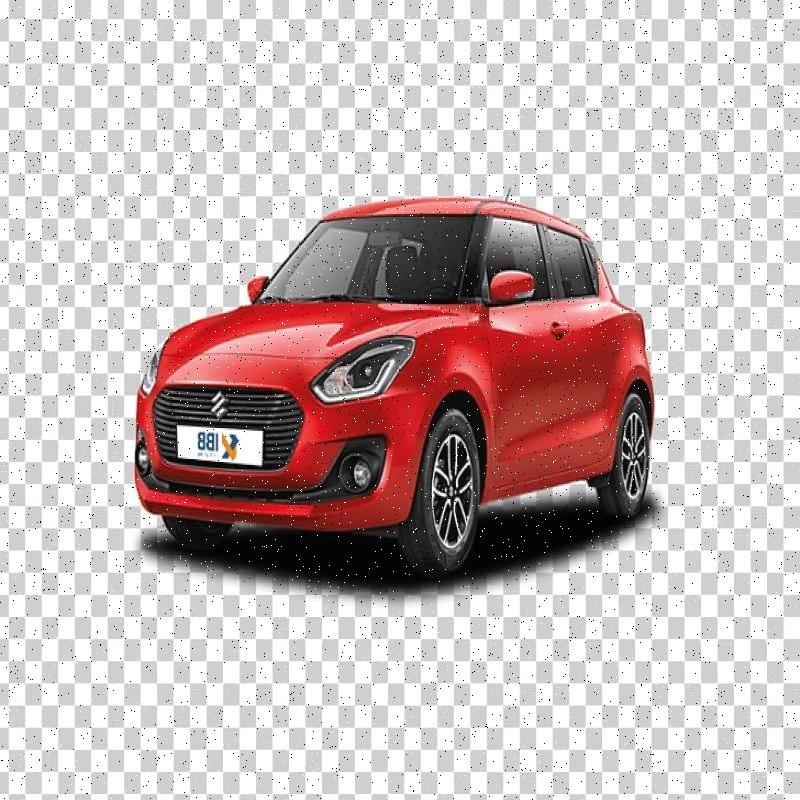car: (125, 152, 668, 574)
